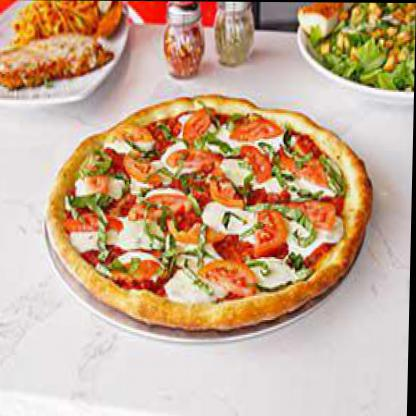pizza: (44, 93, 377, 328)
